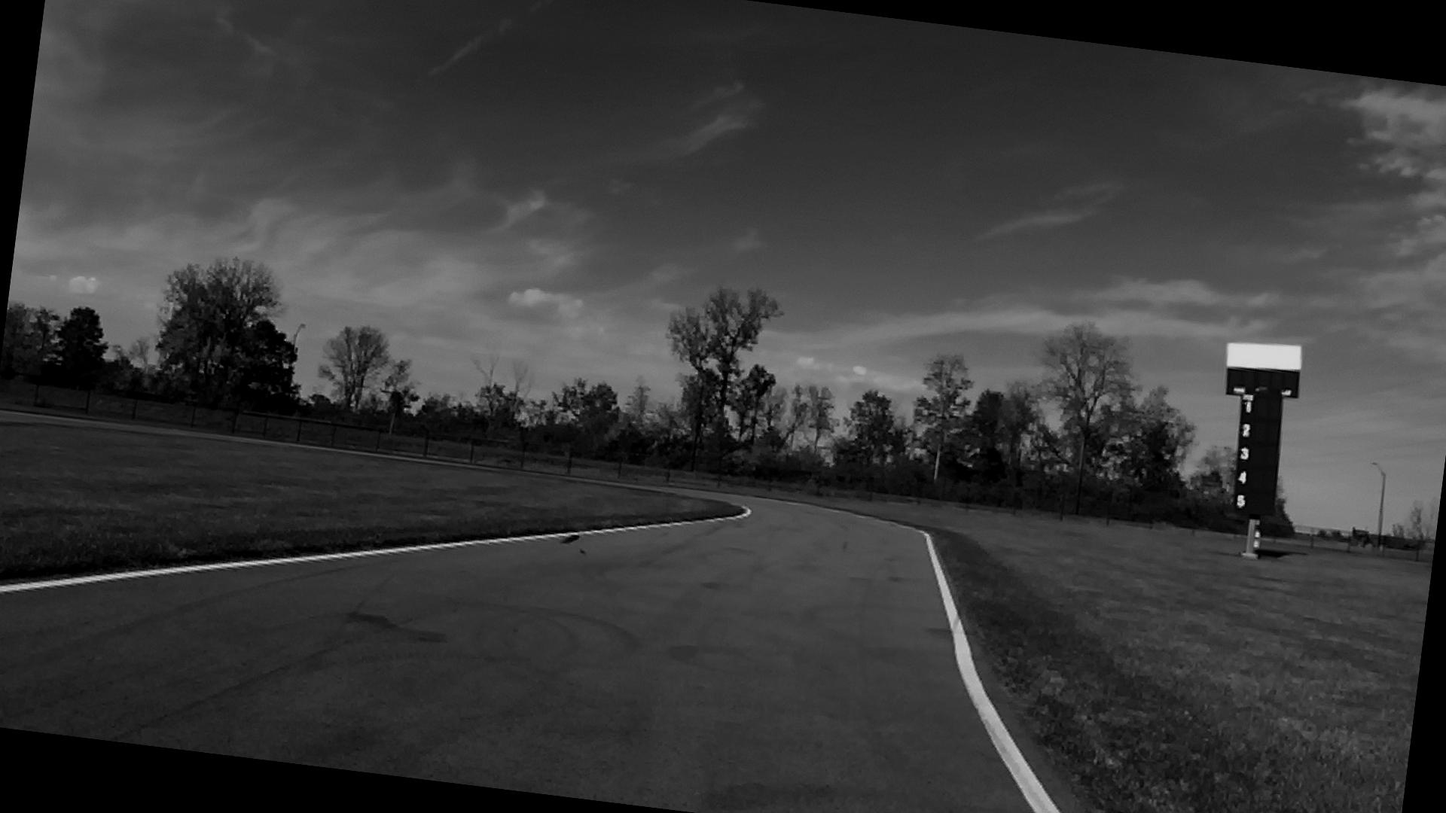white-line: (0, 504, 751, 592), (915, 529, 1061, 813)
